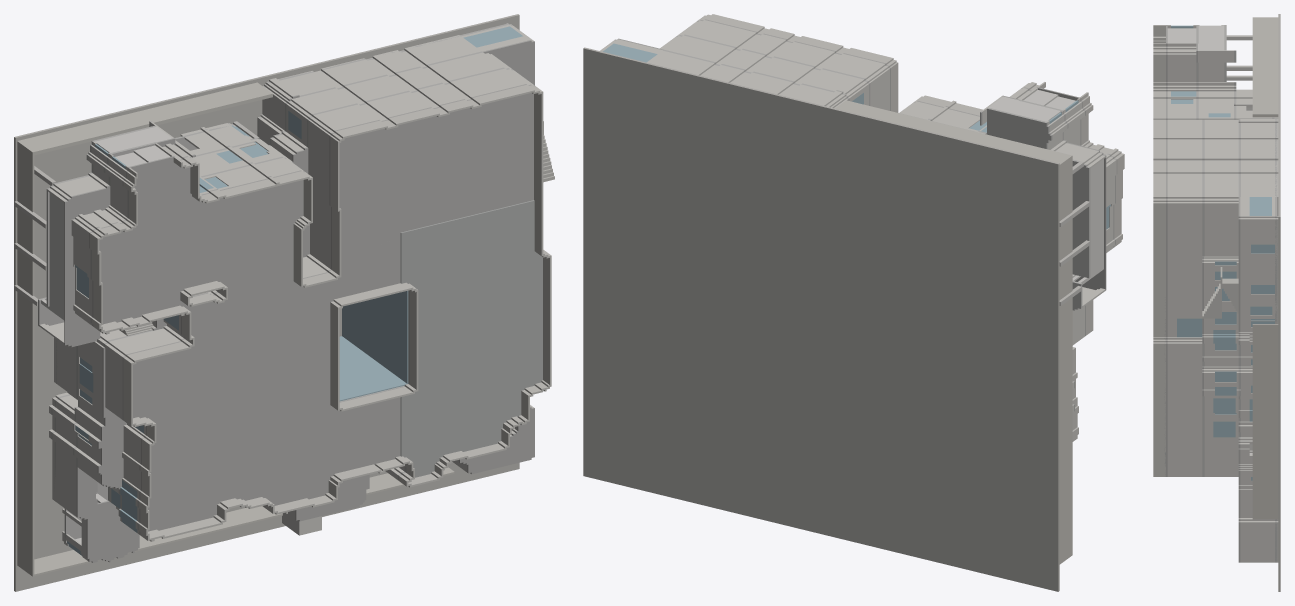
Rendered from Disrupt_141C_v3.glb.
The picture shows the model from 3 angles, left to right: view 1: azimuth 30°, elevation 25°; view 2: azimuth 150°, elevation 25°; view 3: azimuth 270°, elevation 25°; orthographic projection. The views are drawn at different scales.
Visible parts, largest first — view 1: Roof_Level_35-3_Slab, Roof_Corrugated_Sheet, Roof_Level_35-3_Parapet, Ground_Apron, SF_External_Walls, Site_Boundary_Wall, GF_External_Walls, FF_External_Walls, Roof_Level_12-5_Slab, Courtyard_Glazing, Roof_Level_23-10_Slab, FF_Internal_Walls (+7 smaller); view 2: Ground_Apron, Site_Boundary_Wall, SF_External_Walls, FF_External_Walls, Roof_Level_35-3_Parapet, FF_Slab, GF_External_Walls, FF_Internal_Walls, Roof_Level_35-3_Slab, Roof_Level_23-10_Slab, GF_Columns; view 3: SF_External_Walls, FF_External_Walls, GF_External_Walls, Site_Boundary_Wall, Roof_Level_35-3_Parapet, FF_Glazing, Ground_Apron, GF_Glazing, SF_Slab, FF_Stairs, Roof_Level_12-5_Slab, Roof_Level_35-3_Slab (+7 smaller).
Boxes of the visible parts, x1,y1,x2,y2 form: Roof_Level_35-3_Slab: (89, 84, 534, 534); Roof_Corrugated_Sheet: (400, 200, 542, 477); Roof_Level_35-3_Parapet: (90, 84, 551, 541); Ground_Apron: (14, 14, 519, 591); SF_External_Walls: (71, 68, 534, 534); Site_Boundary_Wall: (17, 82, 454, 576); GF_External_Walls: (49, 23, 533, 561); FF_External_Walls: (39, 52, 511, 509); Roof_Level_12-5_Slab: (76, 40, 534, 562); Courtyard_Glazing: (339, 290, 408, 401); Roof_Level_23-10_Slab: (64, 138, 309, 489); FF_Internal_Walls: (41, 126, 172, 320); Ground_Apron: (583, 47, 1059, 591); Site_Boundary_Wall: (835, 100, 1072, 564); SF_External_Walls: (677, 20, 1116, 345); FF_External_Walls: (660, 35, 1105, 412); Roof_Level_35-3_Parapet: (698, 14, 1124, 441); FF_Slab: (663, 49, 1090, 310); GF_External_Walls: (600, 39, 848, 108); FF_Internal_Walls: (988, 96, 1103, 284); Roof_Level_35-3_Slab: (697, 19, 1117, 336); Roof_Level_23-10_Slab: (1002, 95, 1106, 411); GF_Columns: (1059, 161, 1089, 305); SF_External_Walls: (1167, 25, 1202, 476); FF_External_Walls: (1198, 25, 1238, 476); GF_External_Walls: (1235, 89, 1278, 562); Site_Boundary_Wall: (1252, 17, 1278, 519); Roof_Level_35-3_Parapet: (1153, 25, 1165, 476); FF_Glazing: (1208, 113, 1236, 437); Ground_Apron: (1278, 14, 1280, 591); GF_Glazing: (1249, 197, 1274, 480); SF_Slab: (1196, 25, 1204, 476); FF_Stairs: (1202, 267, 1238, 318); Roof_Level_12-5_Slab: (1234, 103, 1240, 562); Roof_Level_35-3_Slab: (1166, 25, 1167, 476).
Bounding box in the file's own units: 151 × 132 × 40.
